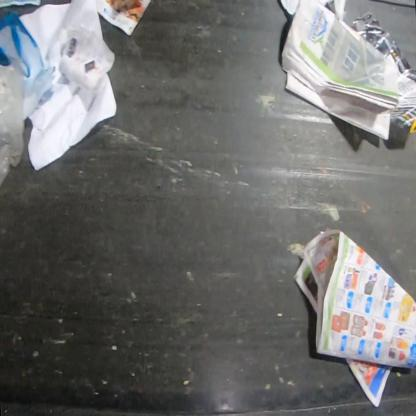soft_plastic: (0, 9, 56, 120), (0, 59, 24, 187)
